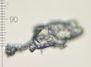microplastic: (5, 19, 84, 56), (29, 35, 66, 52)
